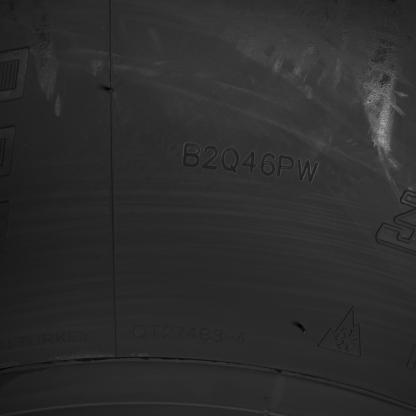ocr: (182, 140, 320, 184)
